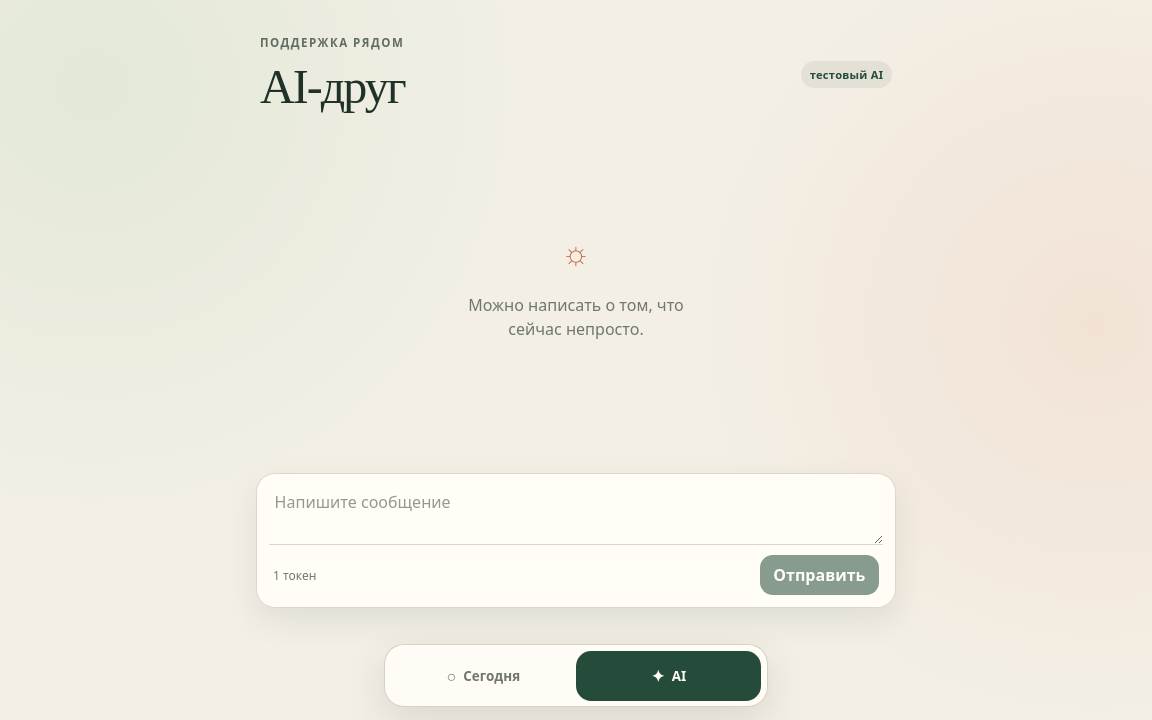
AI chat screen › uses a new idempotency key for each new message
Expected: the element named "Переписка с AI" is shown, [468,235,684,340]
Type "Первое сообщение" into the text box labelled "сообщение" at (576, 515), box [269,486,883,544]
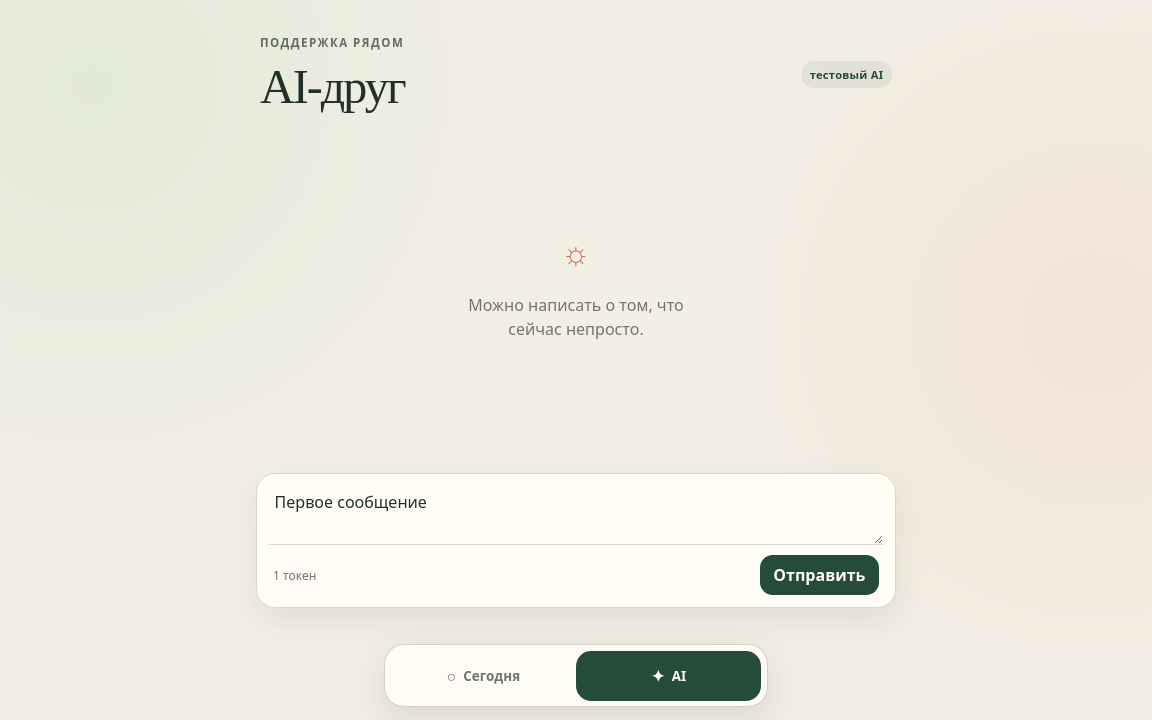
Click the button "Отправить" at (819, 575), box [760,555,879,595]
Wait 1100 ms
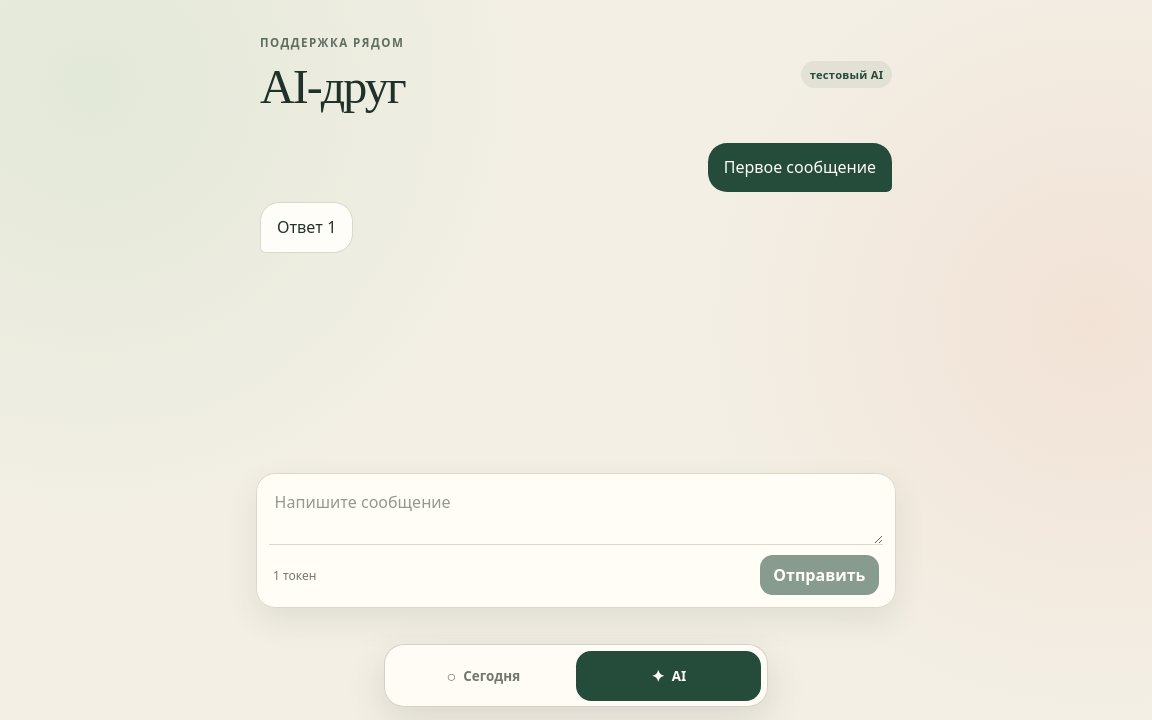
Expected: the text "Ответ 1" is shown, [260,202,353,253]
Type "Второе сообщение" into the text box labelled "сообщение" at (576, 515), box [269,486,883,544]
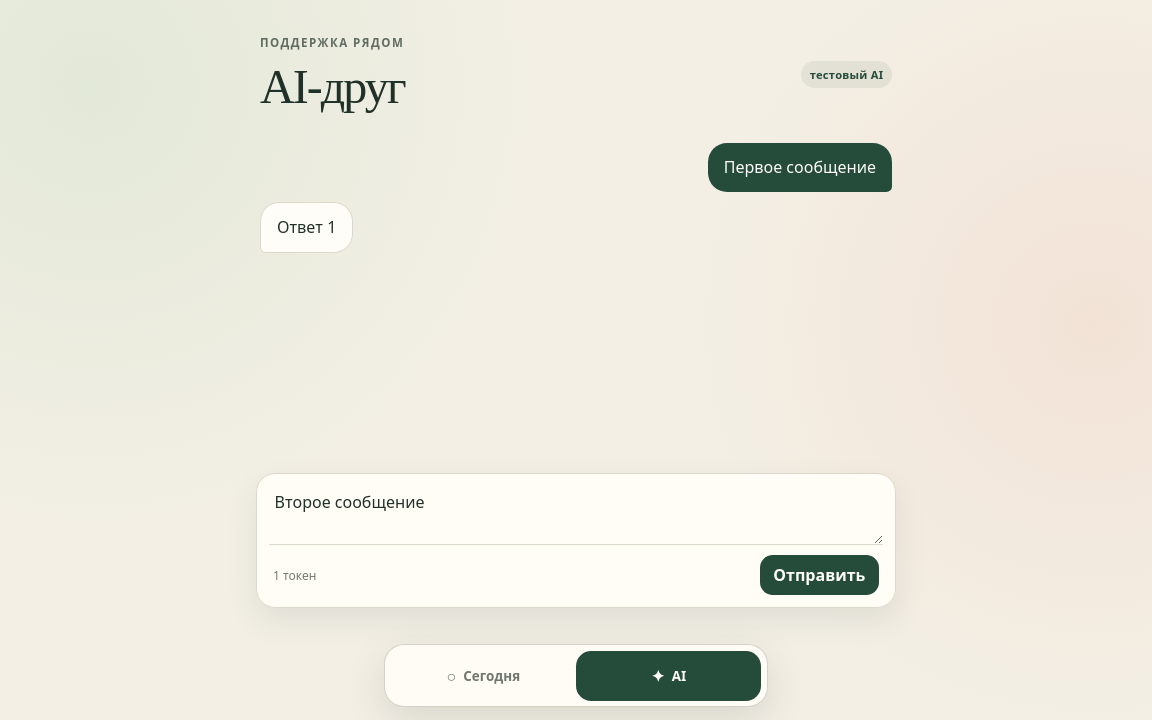
Click the button "Отправить" at (819, 575), box [760,555,879,595]
Wait 1100 ms
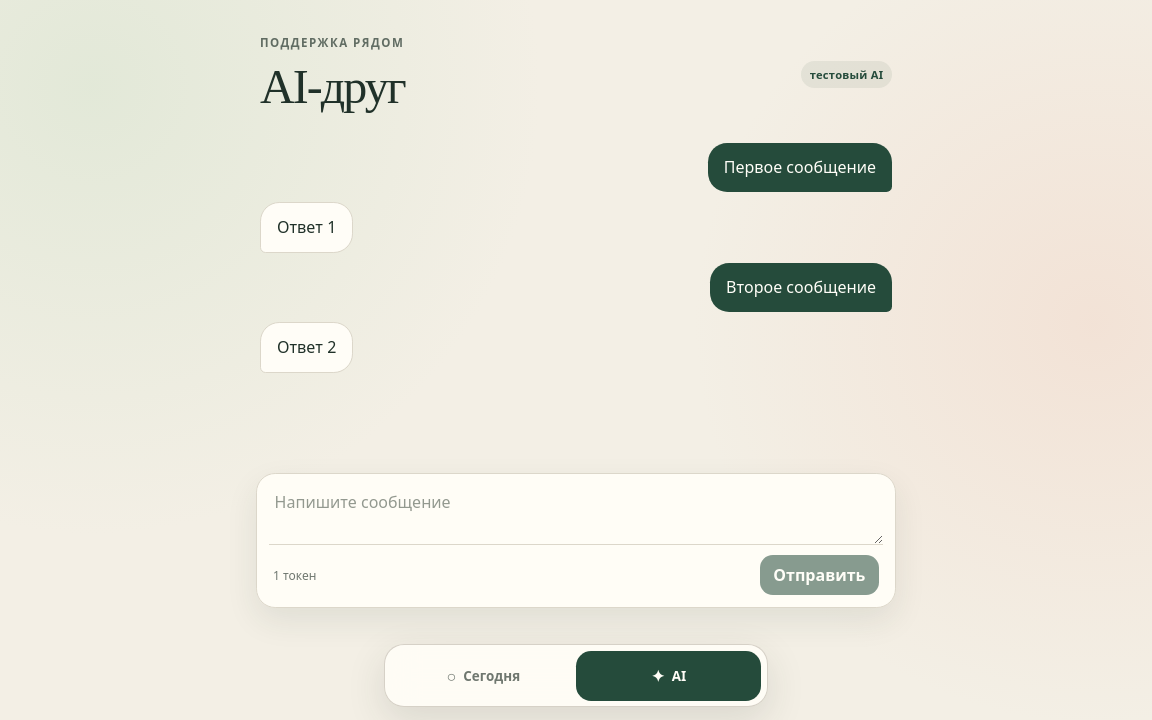
Expected: the text "Ответ 2" is shown, [260,322,353,373]
